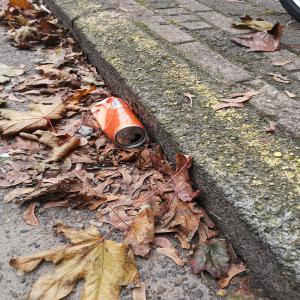Can: (86, 96, 153, 152)
